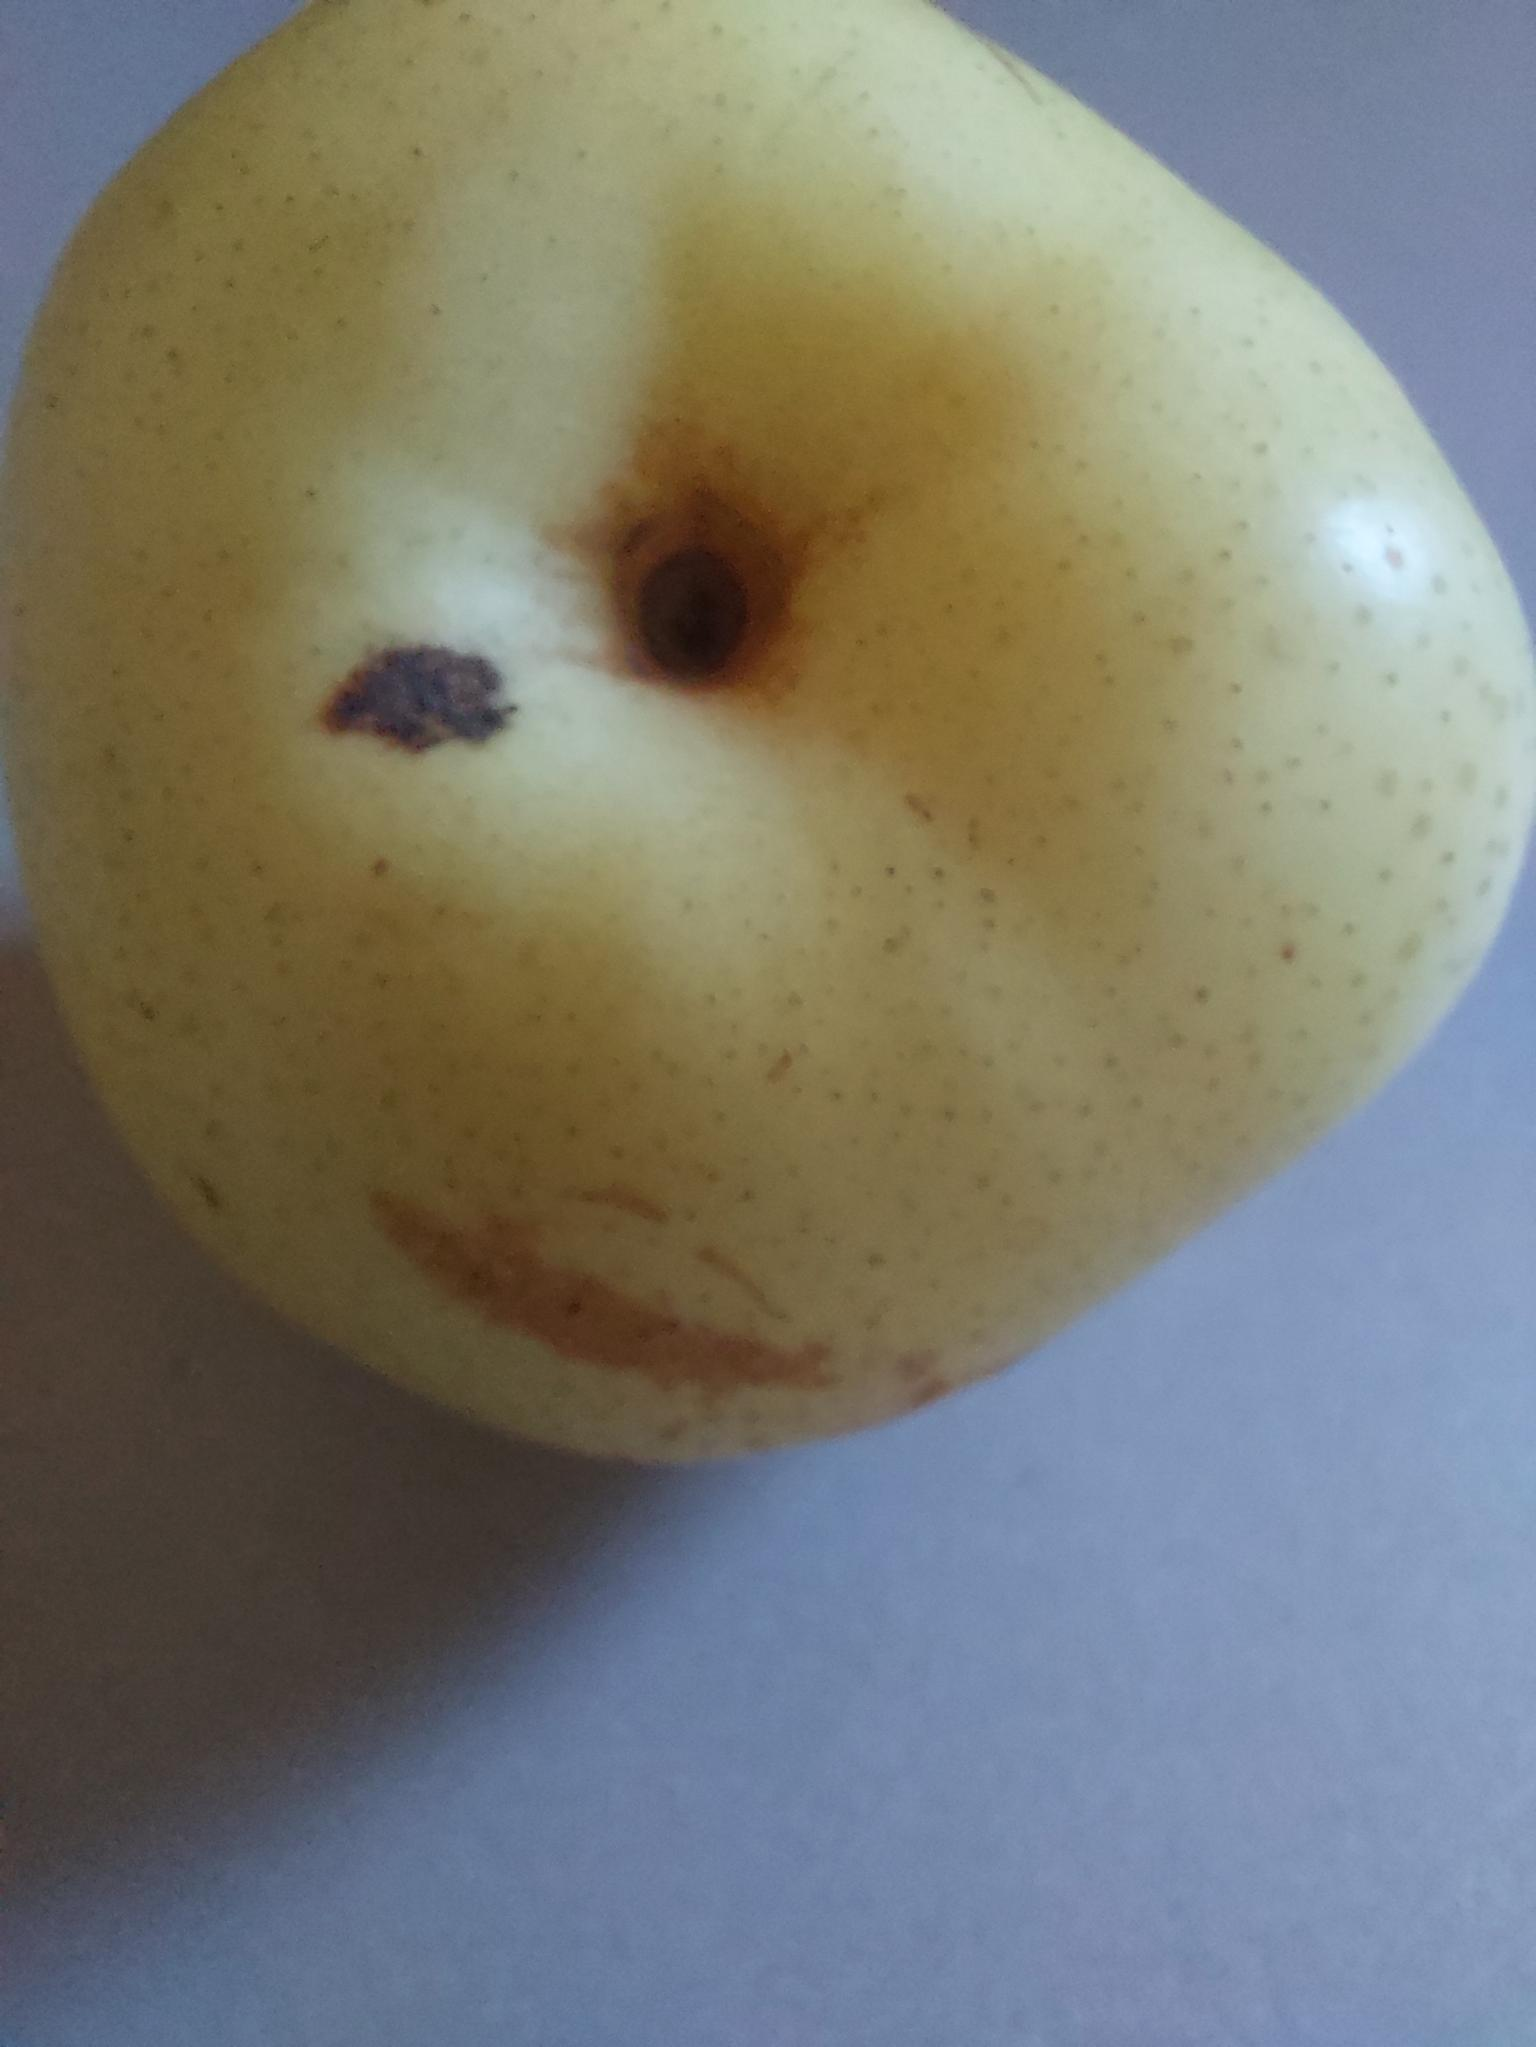Good Pear: (0, 0, 1536, 1537)
